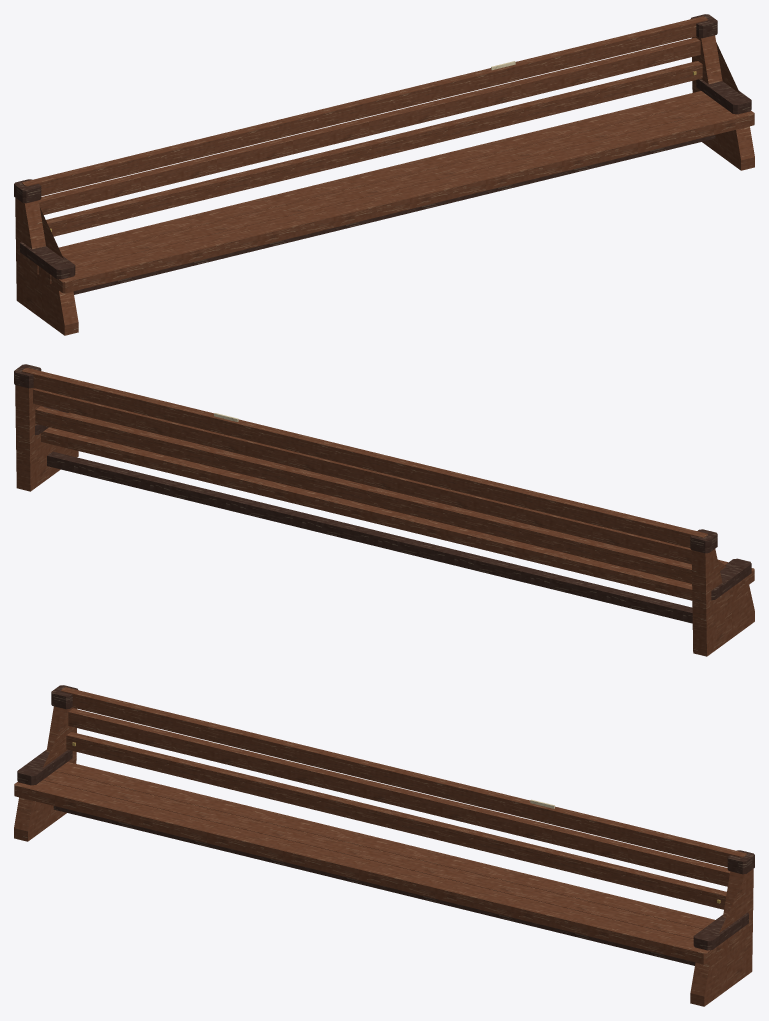
File: Bangku_Panjang.obj
3 views of the same model, one above another, from view 1: azimuth 30°, elevation 25°; view 2: azimuth 150°, elevation 25°; view 3: azimuth 330°, elevation 25° (orthographic).
Visible parts, largest first — view 1: Bangku_Panjang; view 2: Bangku_Panjang; view 3: Bangku_Panjang.
Boxes of the visible parts, x1,y1,x2,y2 form: Bangku_Panjang: (14,14,754,335); Bangku_Panjang: (14,364,754,656); Bangku_Panjang: (14,685,754,1006).
Size of the model in its own units: 7.03 by 1.17 by 0.87.
Materials: 4 (4 with a texture image).
